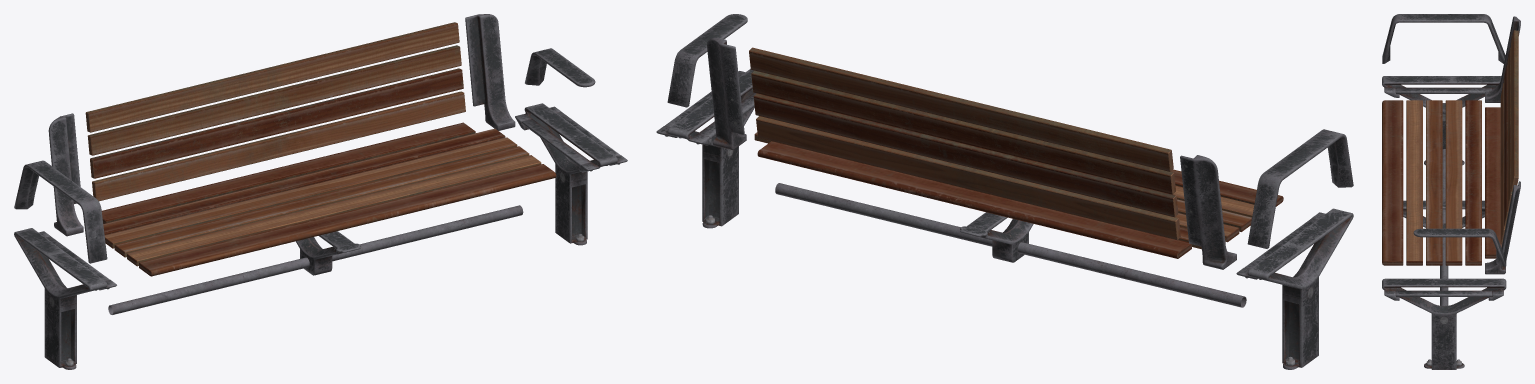
File: pf-bench.glb
The picture shows the model from 3 angles, left to right: view 1: azimuth 30°, elevation 25°; view 2: azimuth 150°, elevation 25°; view 3: azimuth 270°, elevation 25°; orthographic projection. The views are drawn at different scales.
Parts seen in each view (by area): view 1: seat_back, seat, legs_double, legs_single, crossbar, back_support_l, arm_rest_01, back_support_r, suspended_support_01, arm_rest_02; view 2: seat_back, seat, legs_single, crossbar, legs_double, arm_rest_01, back_support_r, back_support_l, arm_rest_02, suspended_support_01; view 3: seat, legs_double, seat_back, legs_single, arm_rest_01, arm_rest_02, back_support_l, crossbar, back_support_r, suspended_support_01.
Part boxes in pixels (bbox=[...]): seat_back: bbox=[85, 22, 465, 201]; seat: bbox=[101, 122, 556, 276]; legs_double: bbox=[515, 103, 627, 245]; legs_single: bbox=[14, 228, 116, 369]; crossbar: bbox=[108, 205, 523, 314]; back_support_l: bbox=[465, 14, 515, 130]; arm_rest_01: bbox=[14, 160, 107, 263]; back_support_r: bbox=[48, 113, 83, 236]; suspended_support_01: bbox=[296, 231, 360, 275]; arm_rest_02: bbox=[525, 48, 595, 87]; seat_back: bbox=[749, 47, 1180, 239]; seat: bbox=[754, 132, 1283, 258]; legs_single: bbox=[1236, 208, 1353, 369]; crossbar: bbox=[775, 183, 1246, 307]; legs_double: bbox=[656, 69, 756, 228]; arm_rest_01: bbox=[1247, 129, 1353, 248]; back_support_r: bbox=[1180, 155, 1236, 269]; back_support_l: bbox=[707, 37, 746, 150]; arm_rest_02: bbox=[667, 14, 747, 107]; suspended_support_01: bbox=[960, 212, 1033, 262]; seat: bbox=[1382, 100, 1501, 265]; legs_double: bbox=[1382, 278, 1506, 369]; seat_back: bbox=[1500, 30, 1518, 244]; legs_single: bbox=[1382, 76, 1501, 165]; arm_rest_01: bbox=[1382, 14, 1505, 63]; arm_rest_02: bbox=[1413, 228, 1506, 266]; back_support_l: bbox=[1485, 181, 1520, 274]; crossbar: bbox=[1440, 149, 1448, 305]; back_support_r: bbox=[1485, 16, 1520, 102]; suspended_support_01: bbox=[1403, 200, 1484, 228].
Size of the model in its own units: 2.45 by 0.8669 by 0.6704.
3 materials, 3 textured.
